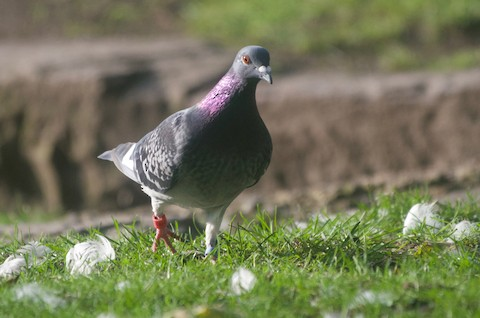pigeon: (89, 39, 276, 265)
